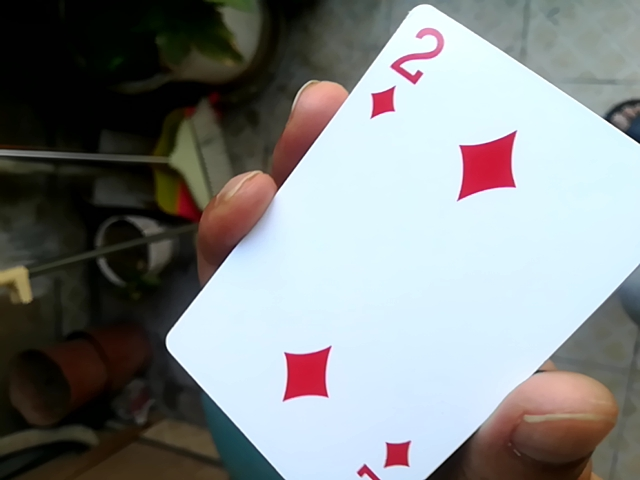fk 2: (177, 5, 636, 477)
